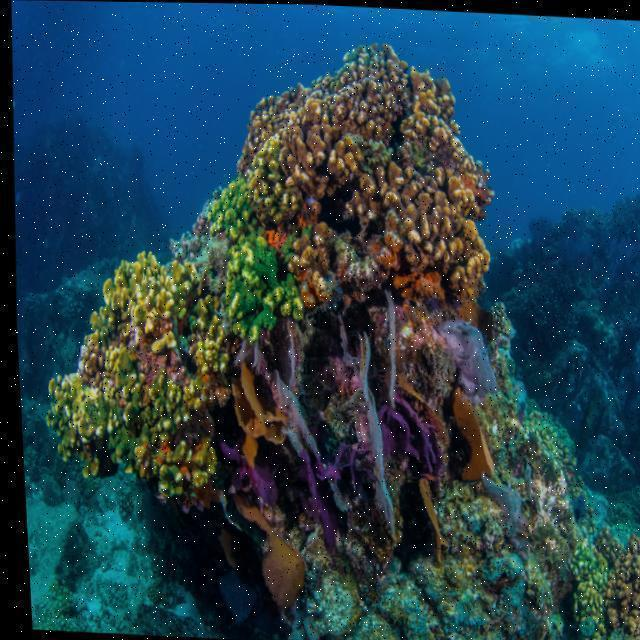Healthy Coral: (232, 31, 510, 307), (195, 178, 302, 336), (81, 233, 202, 364), (124, 362, 227, 503), (36, 369, 128, 488)
